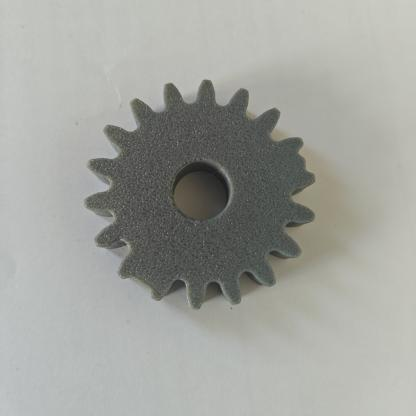defect: (100, 236, 186, 317), (271, 127, 331, 199)
gear: (69, 71, 352, 333)
